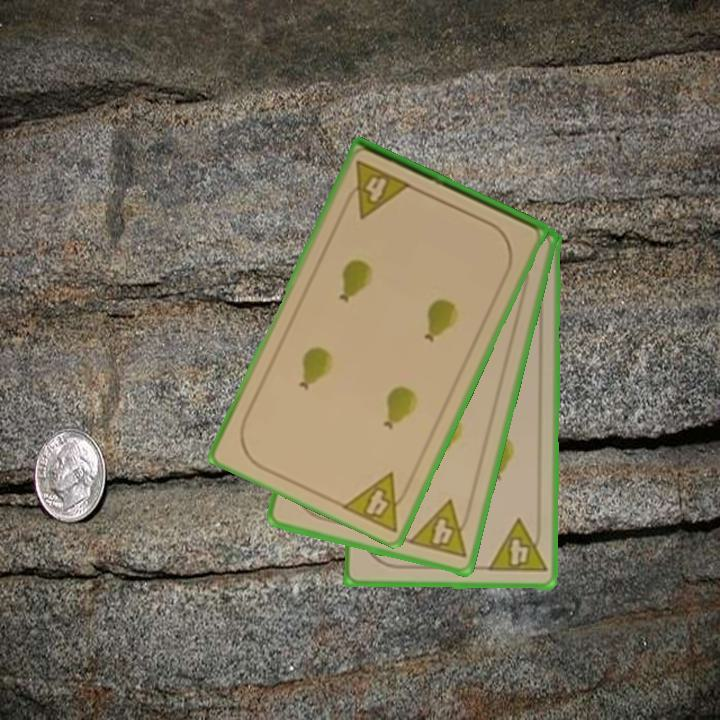4p: (338, 468, 417, 535), (339, 157, 414, 221), (404, 496, 475, 562), (484, 516, 549, 576)
